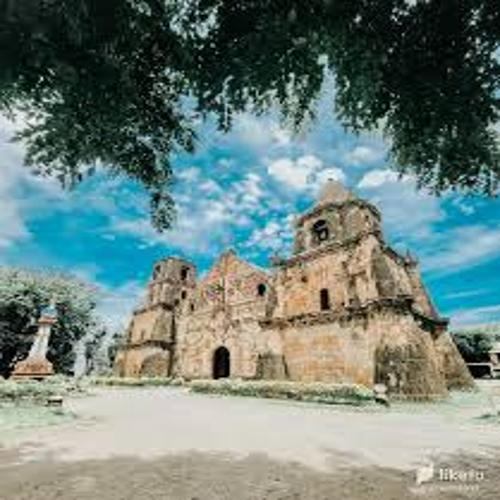Miagao Church: (107, 167, 459, 411)
